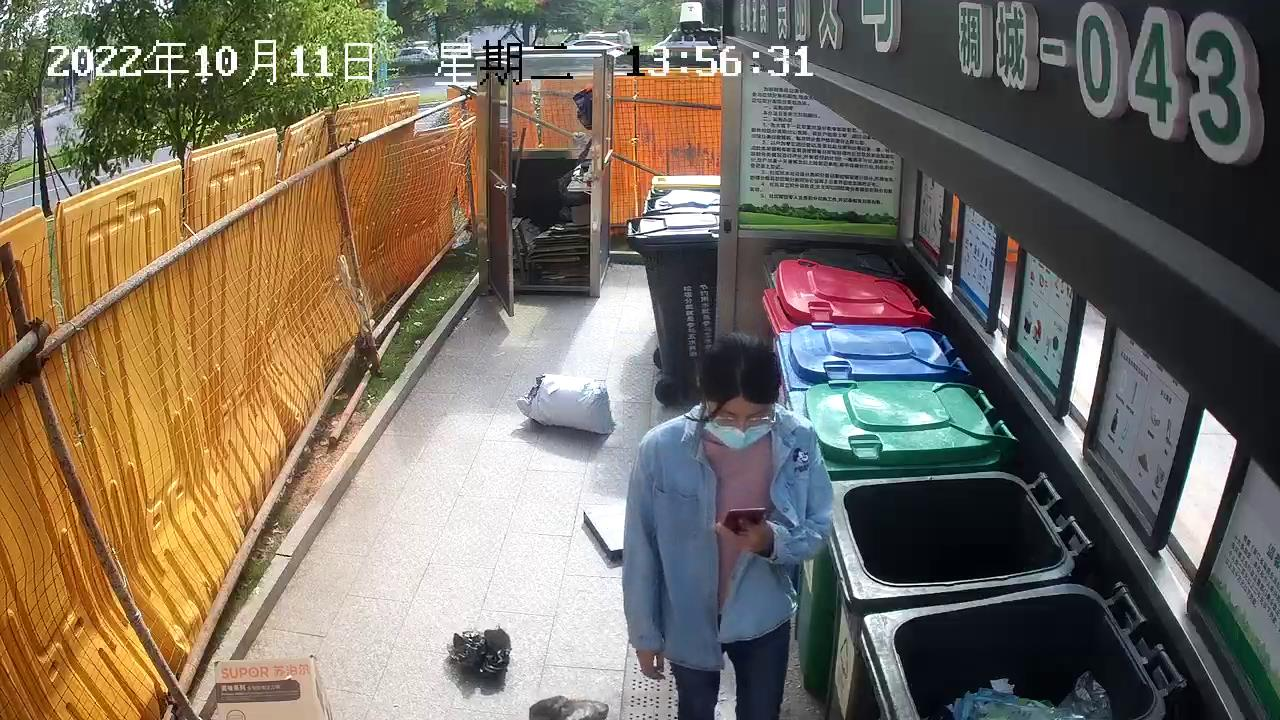garbage: (514, 369, 624, 440)
worker: (619, 328, 838, 720)
zhizhipin: (209, 651, 341, 720)
